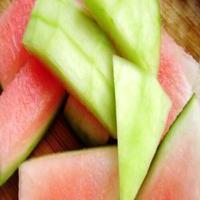biodegradable: (23, 0, 117, 141), (112, 55, 173, 200), (18, 144, 117, 200)
